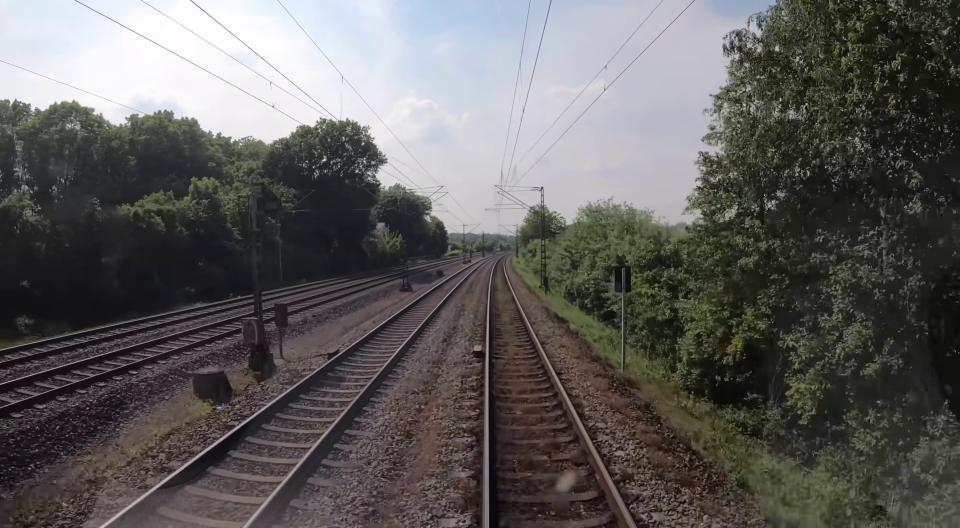Plant: (60, 380, 214, 492), (398, 414, 440, 497), (586, 377, 634, 418), (635, 422, 675, 468), (500, 309, 524, 360), (226, 365, 256, 395), (492, 257, 507, 314), (583, 364, 594, 371)
